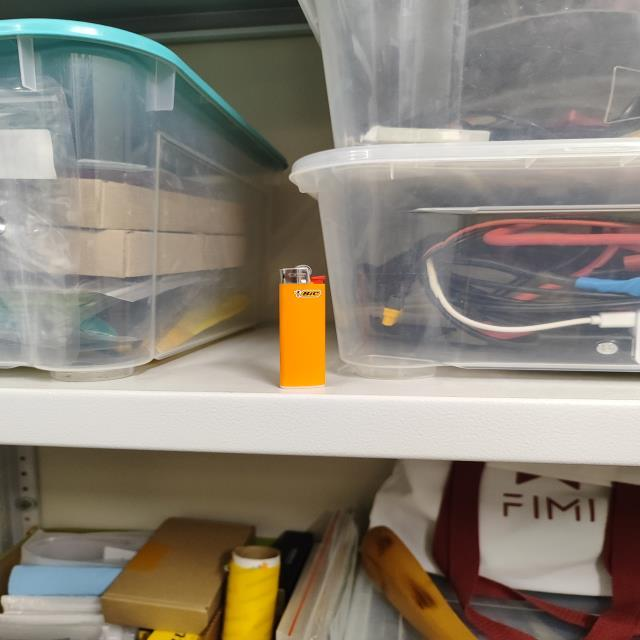lighter: (280, 265, 325, 386)
